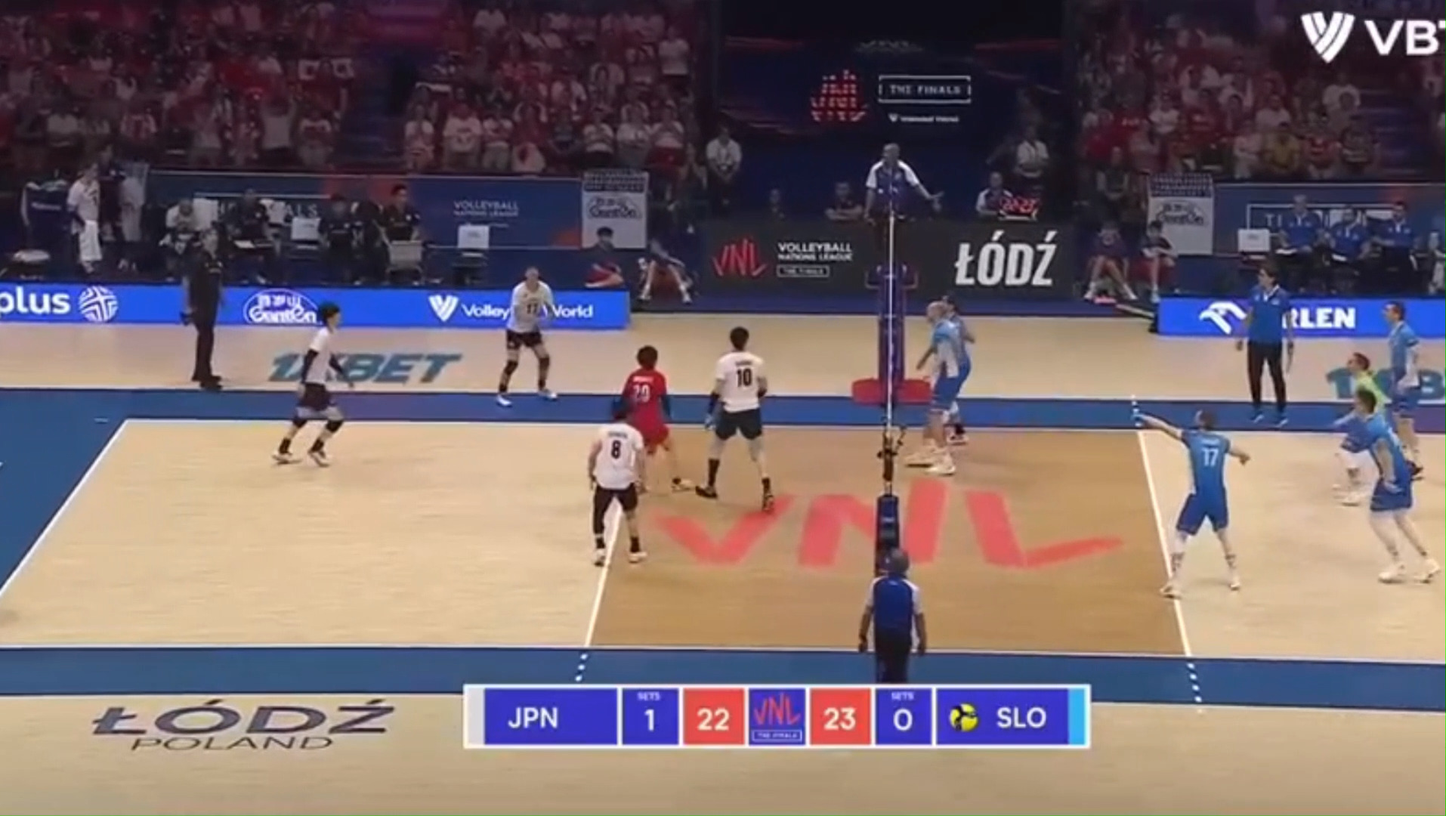player: (1134, 410, 1249, 598), (1352, 389, 1439, 583), (909, 300, 972, 475), (1385, 301, 1421, 479), (1346, 353, 1389, 425), (941, 295, 976, 369), (946, 398, 968, 445), (1340, 434, 1364, 466)
player 1: (694, 326, 774, 510), (273, 303, 352, 465), (622, 345, 691, 491), (588, 403, 646, 566), (496, 267, 556, 406)
referee: (865, 143, 939, 296), (858, 549, 927, 684), (1236, 266, 1293, 423), (181, 231, 224, 391)
